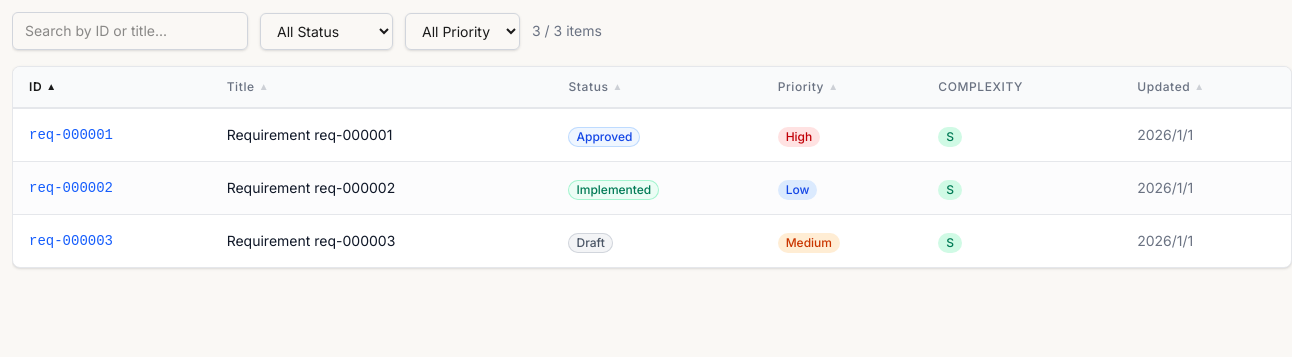
it: RequirementTable - 空状態UI › フィルタ結果が0件のとき空状態UIが表示される
Type "nonexistent-xyz-abc" into the field at [130, 31], box top-left (12, 12), bottom-right (248, 50)
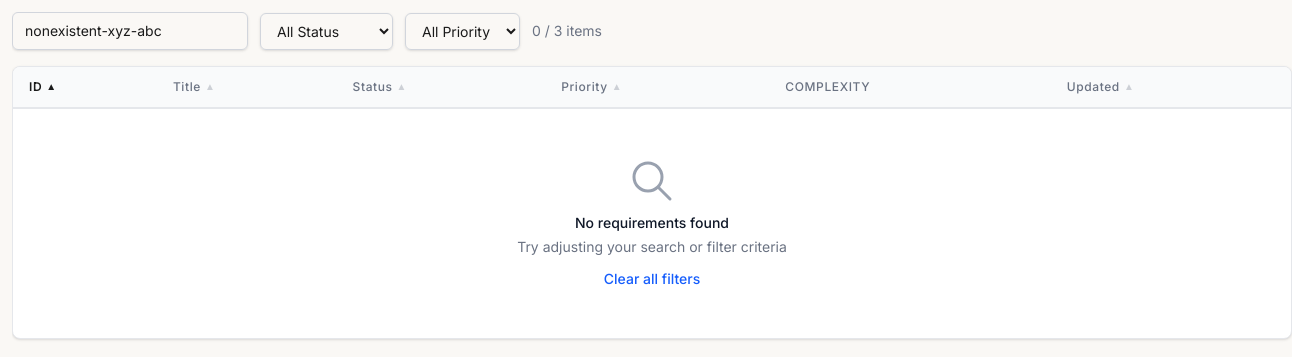
Check: the text "No requirements found" is shown, box top-left (575, 214), bottom-right (729, 231)
